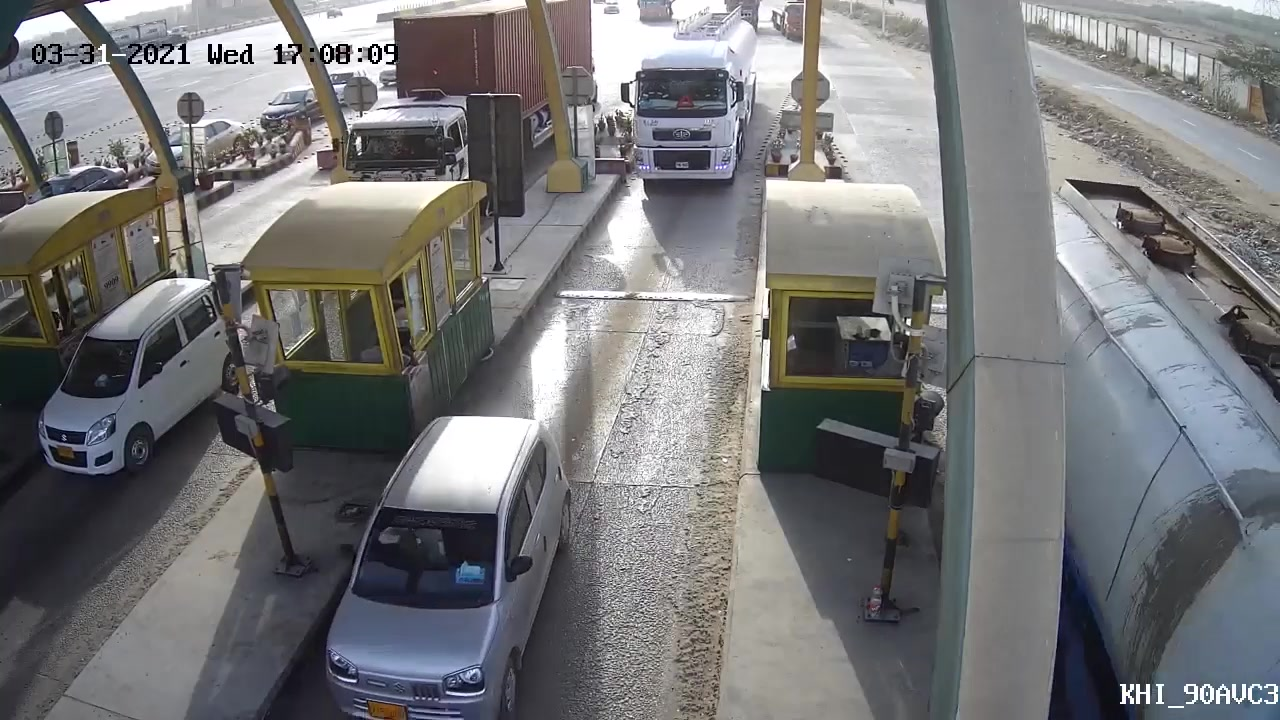F5: (318, 416, 582, 708), (623, 11, 761, 193)
